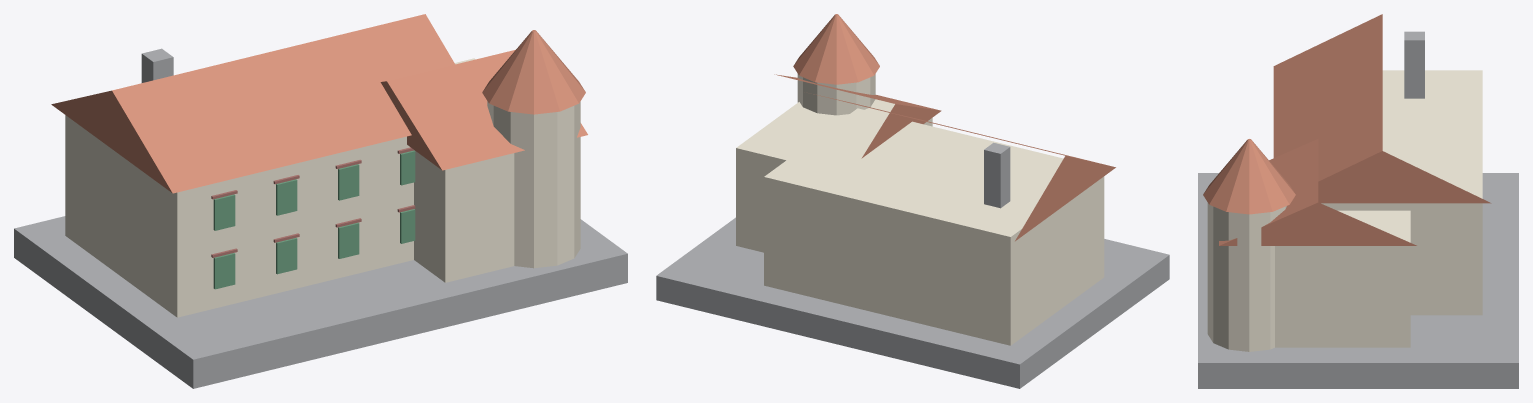
Rendered from lm_114_dinh_thu_phap_co_suon_doi_hung_vuong_pasteur_cadasa_annex.glb.
3 renders of one model, left to right at view 1: azimuth 30°, elevation 25°; view 2: azimuth 150°, elevation 25°; view 3: azimuth 270°, elevation 25°, orthographic. The views are drawn at different scales.
Parts seen in each view (by area): view 1: lm_114_dinh_thu_phap_co_suon_doi_hung_vuong_pasteur_cadasa_a; view 2: lm_114_dinh_thu_phap_co_suon_doi_hung_vuong_pasteur_cadasa_a; view 3: lm_114_dinh_thu_phap_co_suon_doi_hung_vuong_pasteur_cadasa_a.
Boxes of the visible parts, box(x1,y1,x2,y2) form: lm_114_dinh_thu_phap_co_suon_doi_hung_vuong_pasteur_cadasa_a: box(14, 14, 627, 388); lm_114_dinh_thu_phap_co_suon_doi_hung_vuong_pasteur_cadasa_a: box(656, 14, 1169, 388); lm_114_dinh_thu_phap_co_suon_doi_hung_vuong_pasteur_cadasa_a: box(1198, 14, 1518, 388).
Bounding box in the file's own units: 28 × 15.2 × 20.
